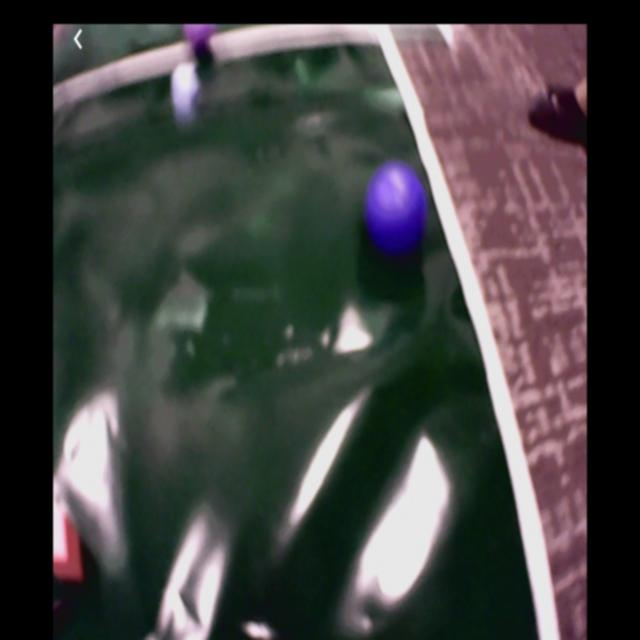ball: (367, 165, 428, 254), (182, 23, 216, 53)
